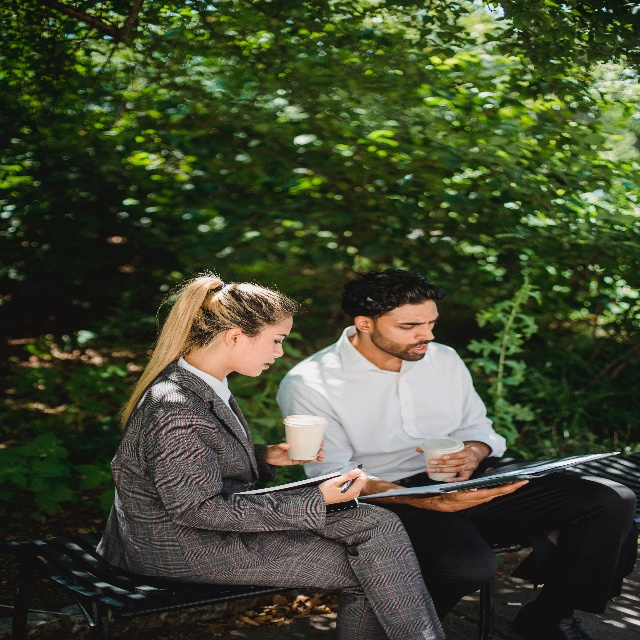Sin_guantes: (439, 468, 529, 525), (412, 440, 480, 480), (319, 463, 368, 501)
